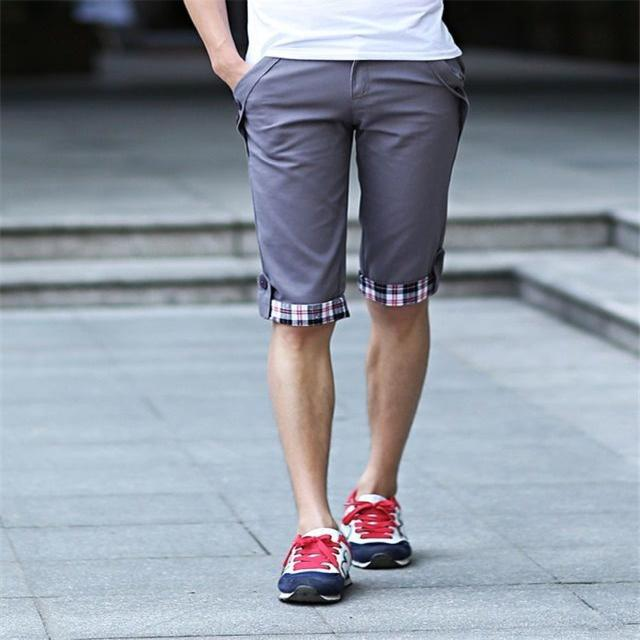shorts: (198, 20, 508, 377)
